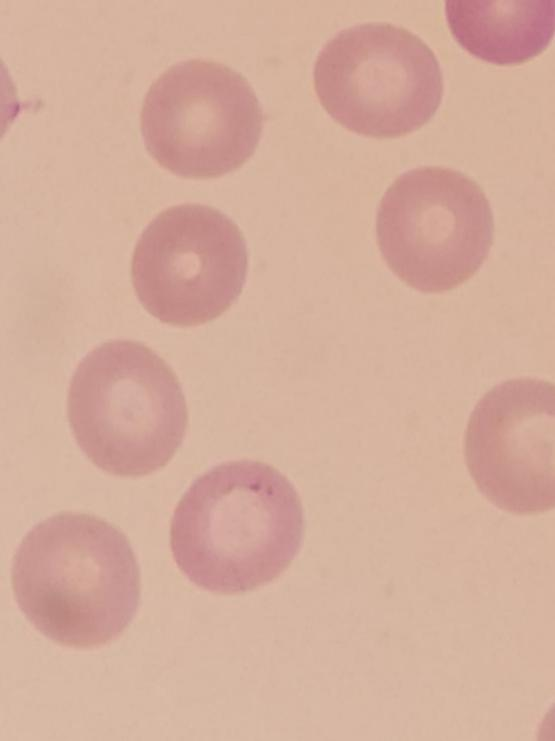Uninfected: (168, 465, 301, 598), (14, 513, 139, 653), (66, 339, 187, 478), (136, 57, 261, 184), (374, 165, 493, 293), (310, 25, 442, 140), (132, 201, 251, 326), (466, 381, 555, 510)
